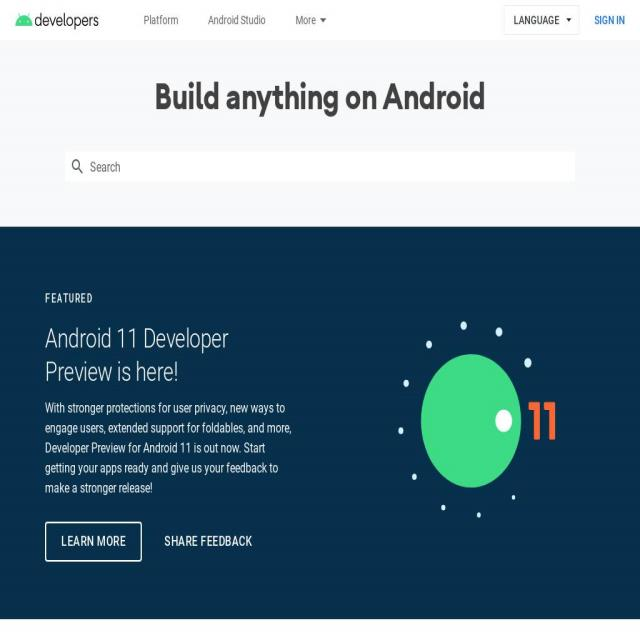language: (506, 8, 576, 28)
login-option: (589, 8, 635, 30)
navigation-links: (138, 4, 338, 34)
options: (290, 7, 330, 33)
search: (65, 145, 581, 187)
